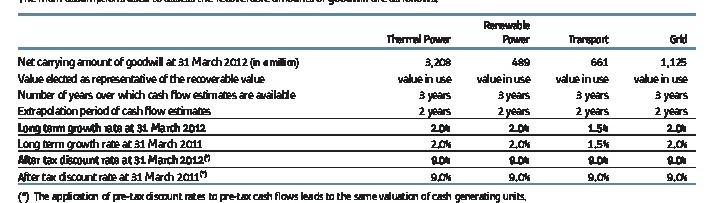table: (0, 0, 713, 203)
